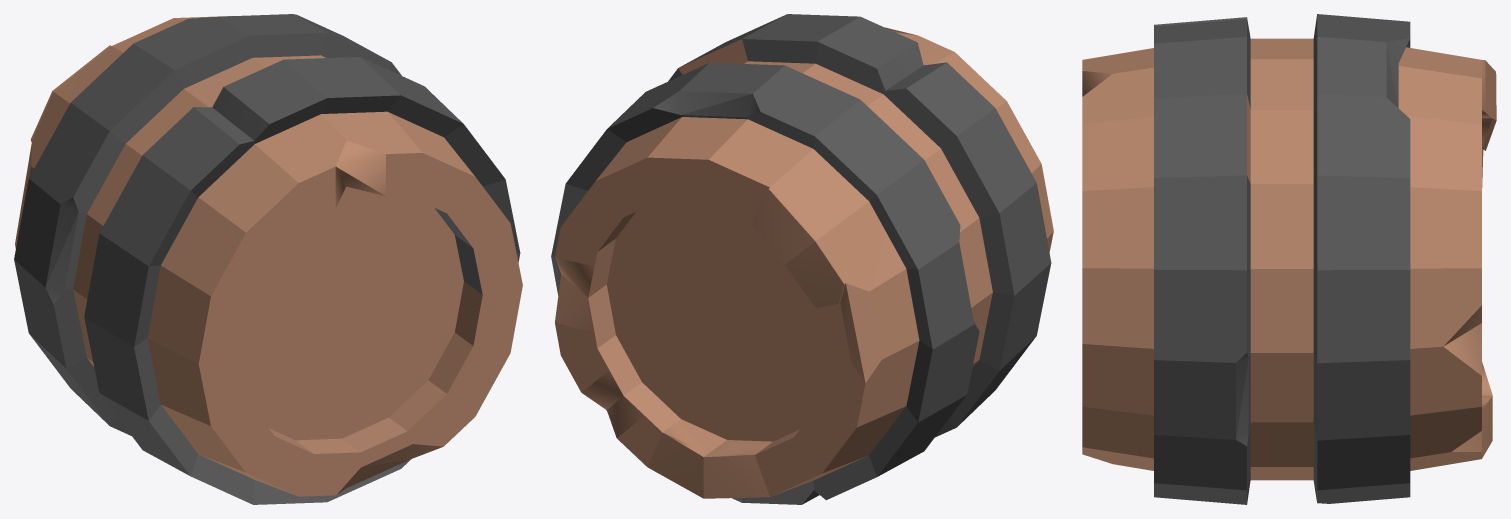
The model's file is Barrel.dae.
The picture shows the model from 3 angles, left to right: view 1: azimuth 30°, elevation 25°; view 2: azimuth 150°, elevation 25°; view 3: azimuth 270°, elevation 25°; orthographic projection. The views are drawn at different scales.
Visible parts, largest first — view 1: Cylinder.003; view 2: Cylinder.003; view 3: Cylinder.003.
Boxes of the visible parts, bbox=[...] form: Cylinder.003: bbox=[14, 14, 522, 504]; Cylinder.003: bbox=[551, 14, 1053, 504]; Cylinder.003: bbox=[1082, 14, 1496, 504].
Size of the model in its own units: 2.46 by 2.07 by 2.46.
